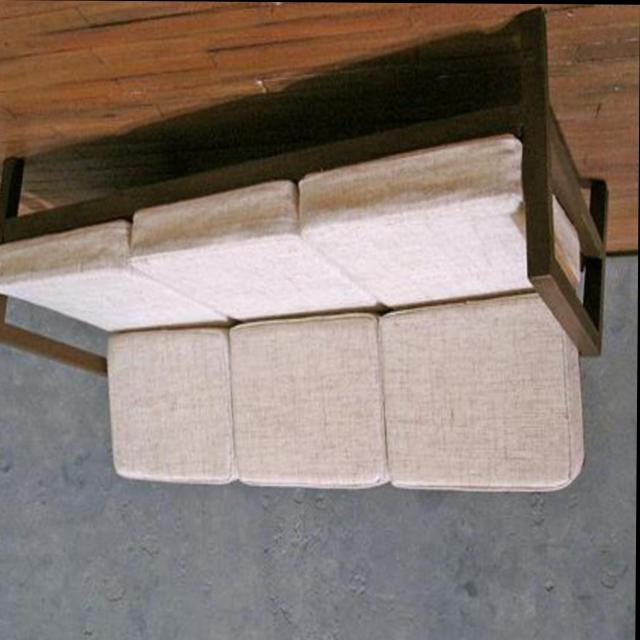Sofa: (0, 6, 606, 489)
